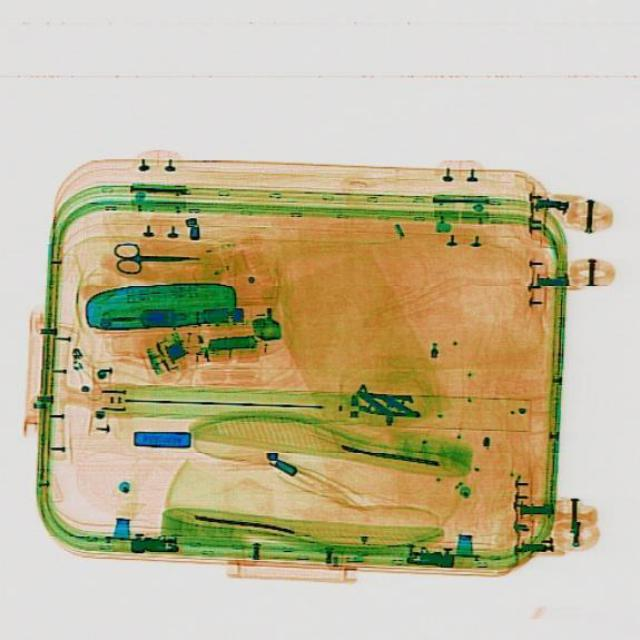Scissors: (110, 240, 200, 274)
